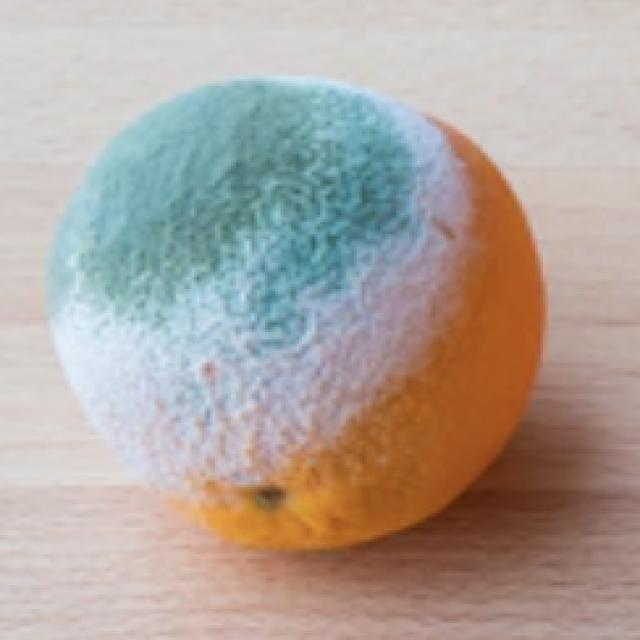sangat_busuk: (51, 82, 546, 546)
